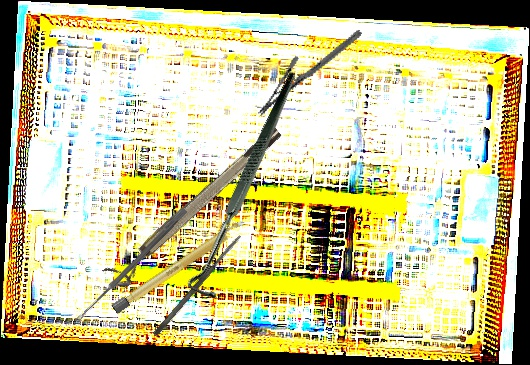Fixation Ring: (102, 123, 291, 293)
Hook Surgical: (123, 71, 374, 308)
Needle Holder: (257, 6, 363, 140)
Scalpel Handle: (111, 217, 248, 315)
Spatula Surgical: (151, 233, 244, 338)
Surgical Spoon: (74, 206, 188, 325)
